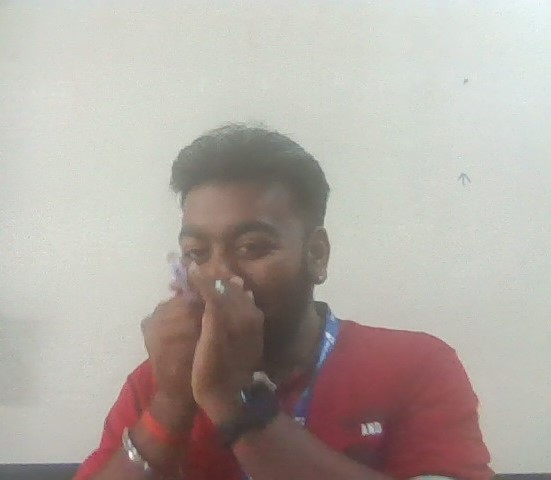smoking: (128, 244, 274, 425)
